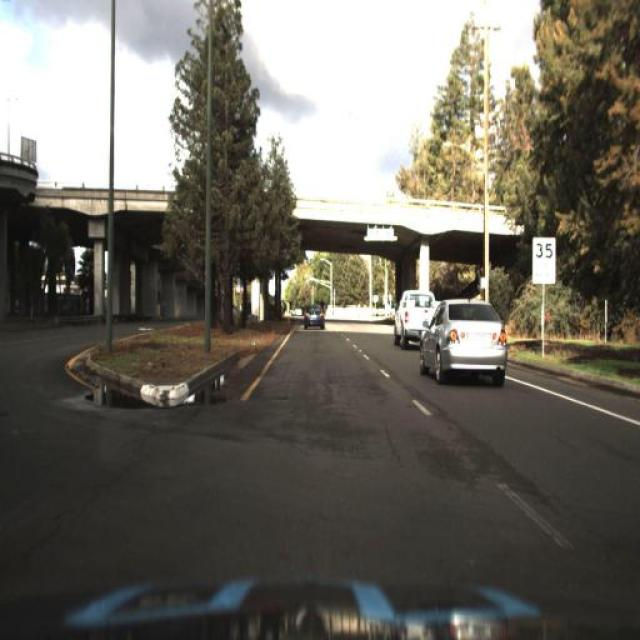car: (420, 298, 511, 392), (390, 284, 440, 354), (299, 300, 327, 335)
